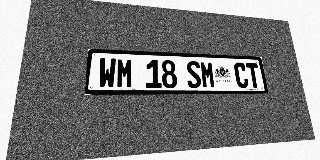1: (146, 59, 162, 88)
8: (161, 60, 177, 88)
C: (233, 62, 249, 88)
M: (116, 58, 133, 88), (200, 61, 216, 88)
S: (186, 61, 202, 88)
T: (246, 63, 261, 88)
W: (98, 57, 116, 88)
